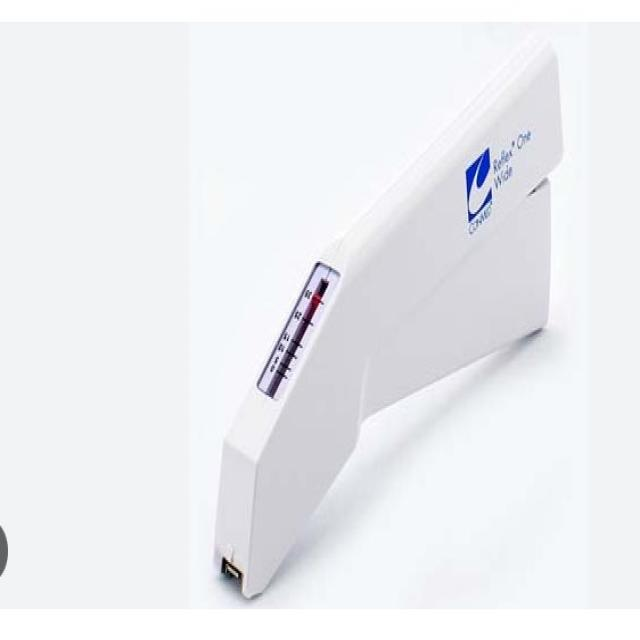Senn Retractor: (206, 36, 561, 602)
